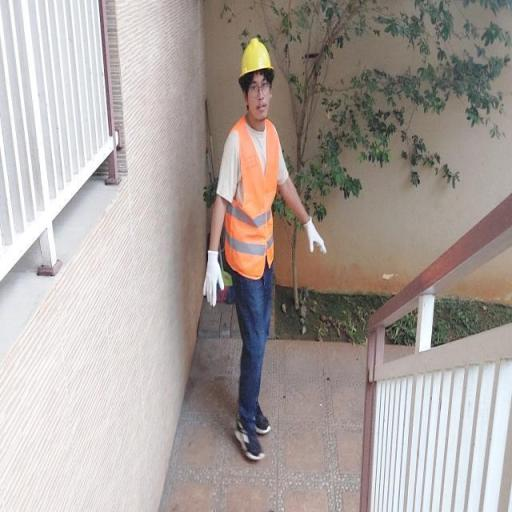Person: (177, 34, 332, 488), (190, 30, 330, 474)
boots: (232, 412, 270, 465), (246, 407, 284, 440)
gloves: (196, 247, 231, 312), (296, 220, 335, 260)
helmet: (234, 39, 296, 85)
vest: (204, 120, 304, 290)
